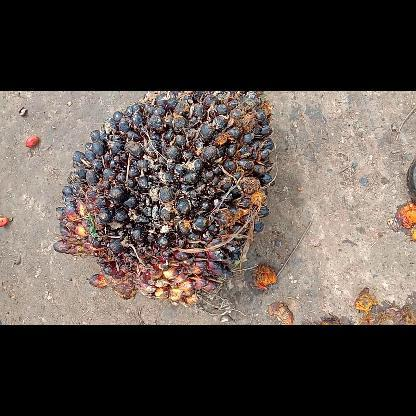TBS mentah: (48, 91, 278, 307)
